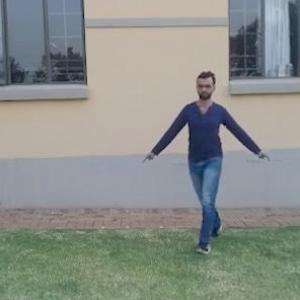land: (153, 71, 271, 234)
